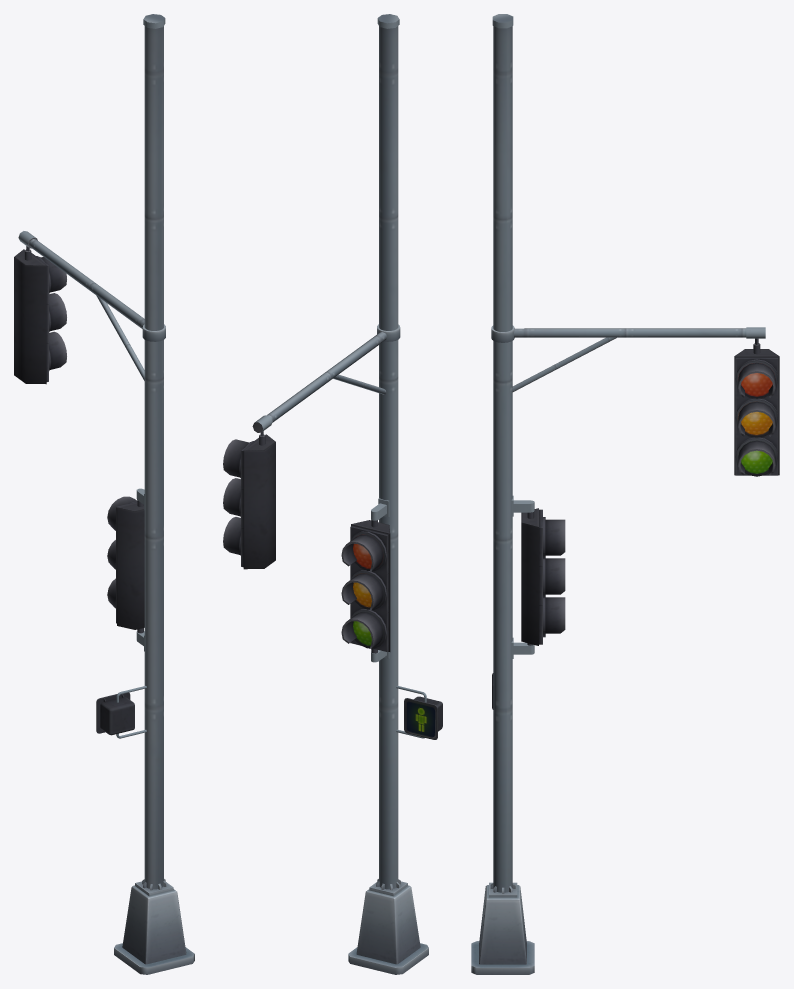
Rendered from Traffic_Lights1.fbx.
The picture shows the model from 3 angles, left to right: view 1: azimuth 30°, elevation 25°; view 2: azimuth 150°, elevation 25°; view 3: azimuth 270°, elevation 25°; orthographic projection.
Visible parts, largest first — view 1: traffic_lights_1_Mesh; view 2: traffic_lights_1_Mesh; view 3: traffic_lights_1_Mesh.
Part boxes in pixels (x1,y1,x2,y2): traffic_lights_1_Mesh: [14, 14, 194, 974]; traffic_lights_1_Mesh: [223, 14, 442, 974]; traffic_lights_1_Mesh: [471, 14, 779, 974].
Size of the model in its own units: 65.21 by 702 by 208.
